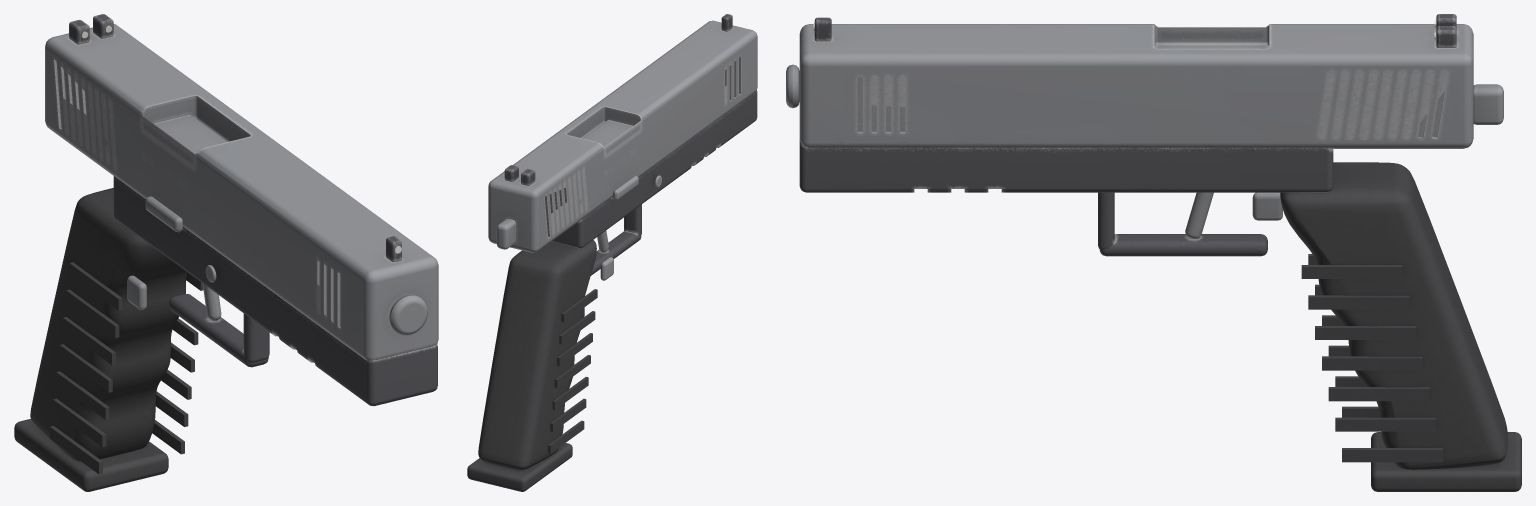
The model's file is elite.fbx.
3 renders of one model, left to right at view 1: azimuth 30°, elevation 25°; view 2: azimuth 150°, elevation 25°; view 3: azimuth 270°, elevation 25°, orthographic. The views are drawn at different scales.
Parts seen in each view (by area): view 1: elite; view 2: elite; view 3: elite.
Part boxes in pixels (bbox=[...]): elite: bbox=[14, 14, 438, 491]; elite: bbox=[467, 14, 757, 491]; elite: bbox=[786, 14, 1521, 491].
Bounding box in the file's own units: 0.0311 × 0.1485 × 0.2183.
